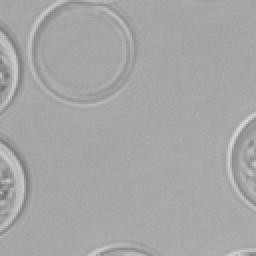picoshell: (28, 0, 134, 106), (226, 112, 254, 210), (0, 142, 24, 232), (0, 30, 18, 110), (86, 242, 154, 254), (226, 248, 254, 254)
